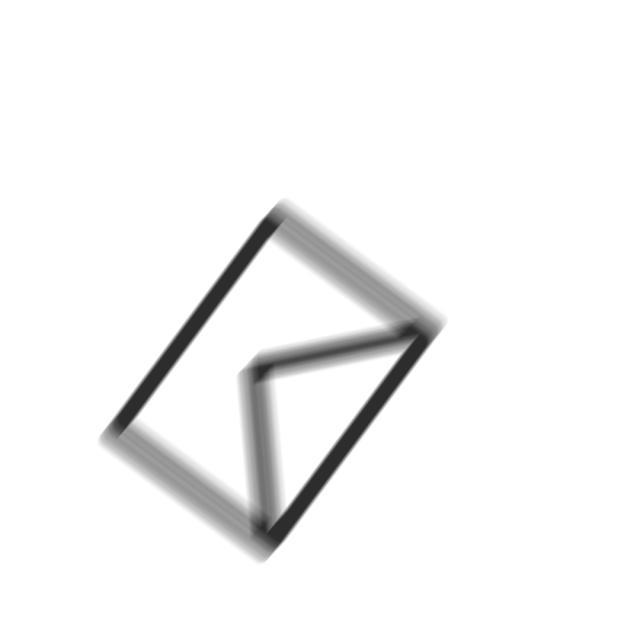letter: (95, 194, 451, 568)
